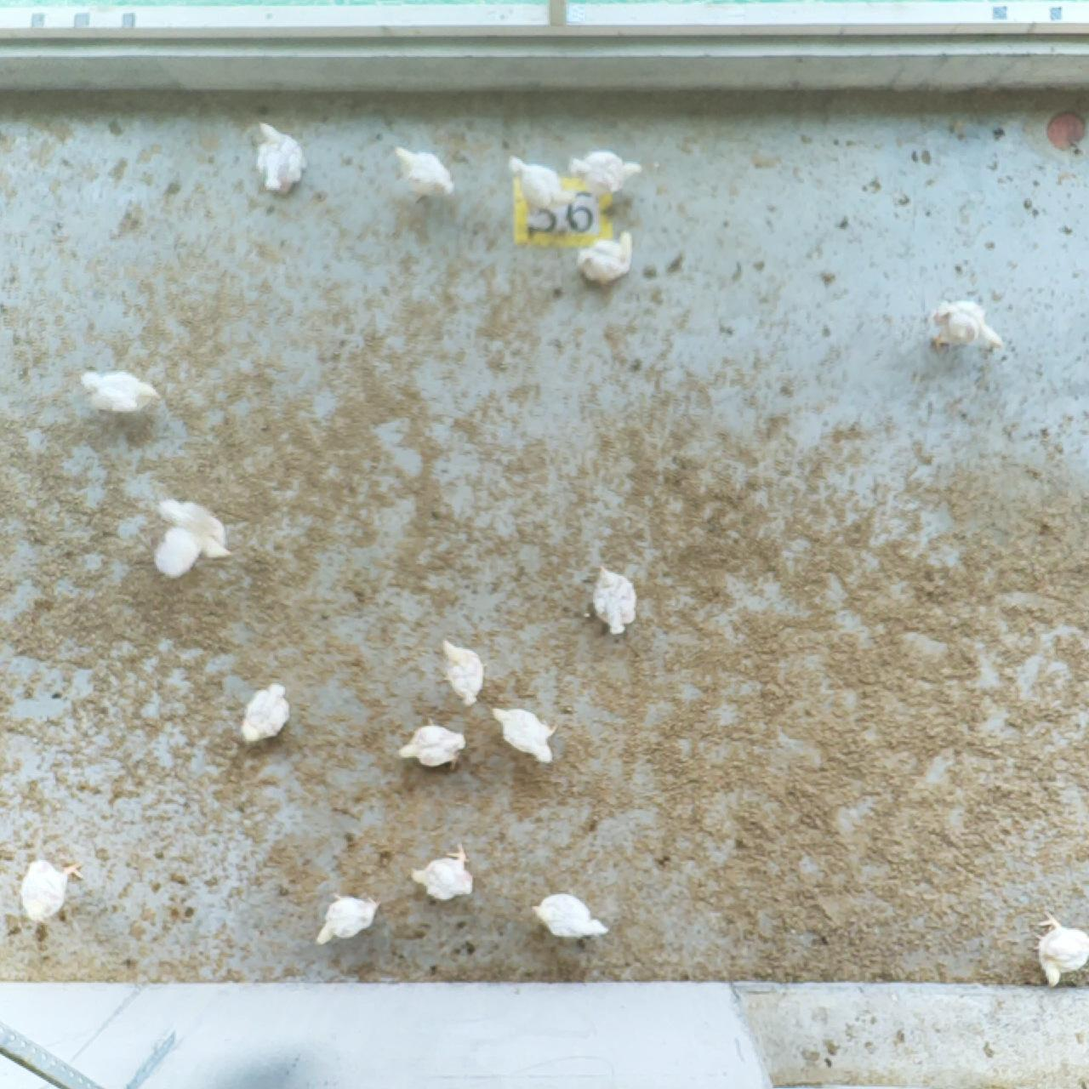chicken: (153, 499, 231, 579), (508, 153, 573, 218), (19, 858, 83, 924), (1033, 910, 1089, 984), (316, 892, 387, 949), (393, 145, 456, 209), (396, 719, 465, 777), (930, 299, 1001, 353), (256, 120, 305, 196), (411, 843, 475, 901), (81, 368, 162, 413), (490, 707, 556, 761), (533, 894, 606, 942), (591, 565, 639, 634), (570, 152, 644, 195), (241, 682, 291, 741), (442, 638, 483, 706), (579, 234, 633, 285)
